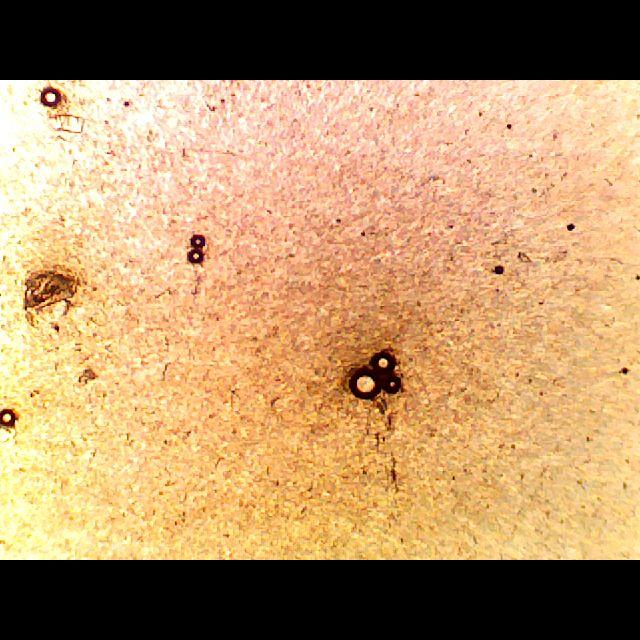microbeads: (348, 368, 380, 402), (368, 347, 396, 373), (381, 372, 405, 393), (38, 85, 62, 106), (0, 406, 20, 428), (189, 230, 207, 248), (186, 250, 204, 264)
